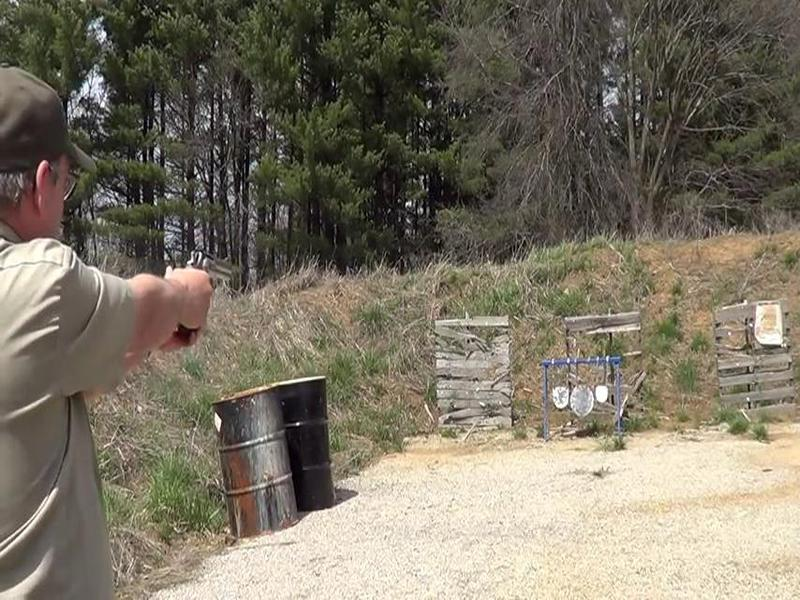Revolver: (179, 247, 248, 354)
